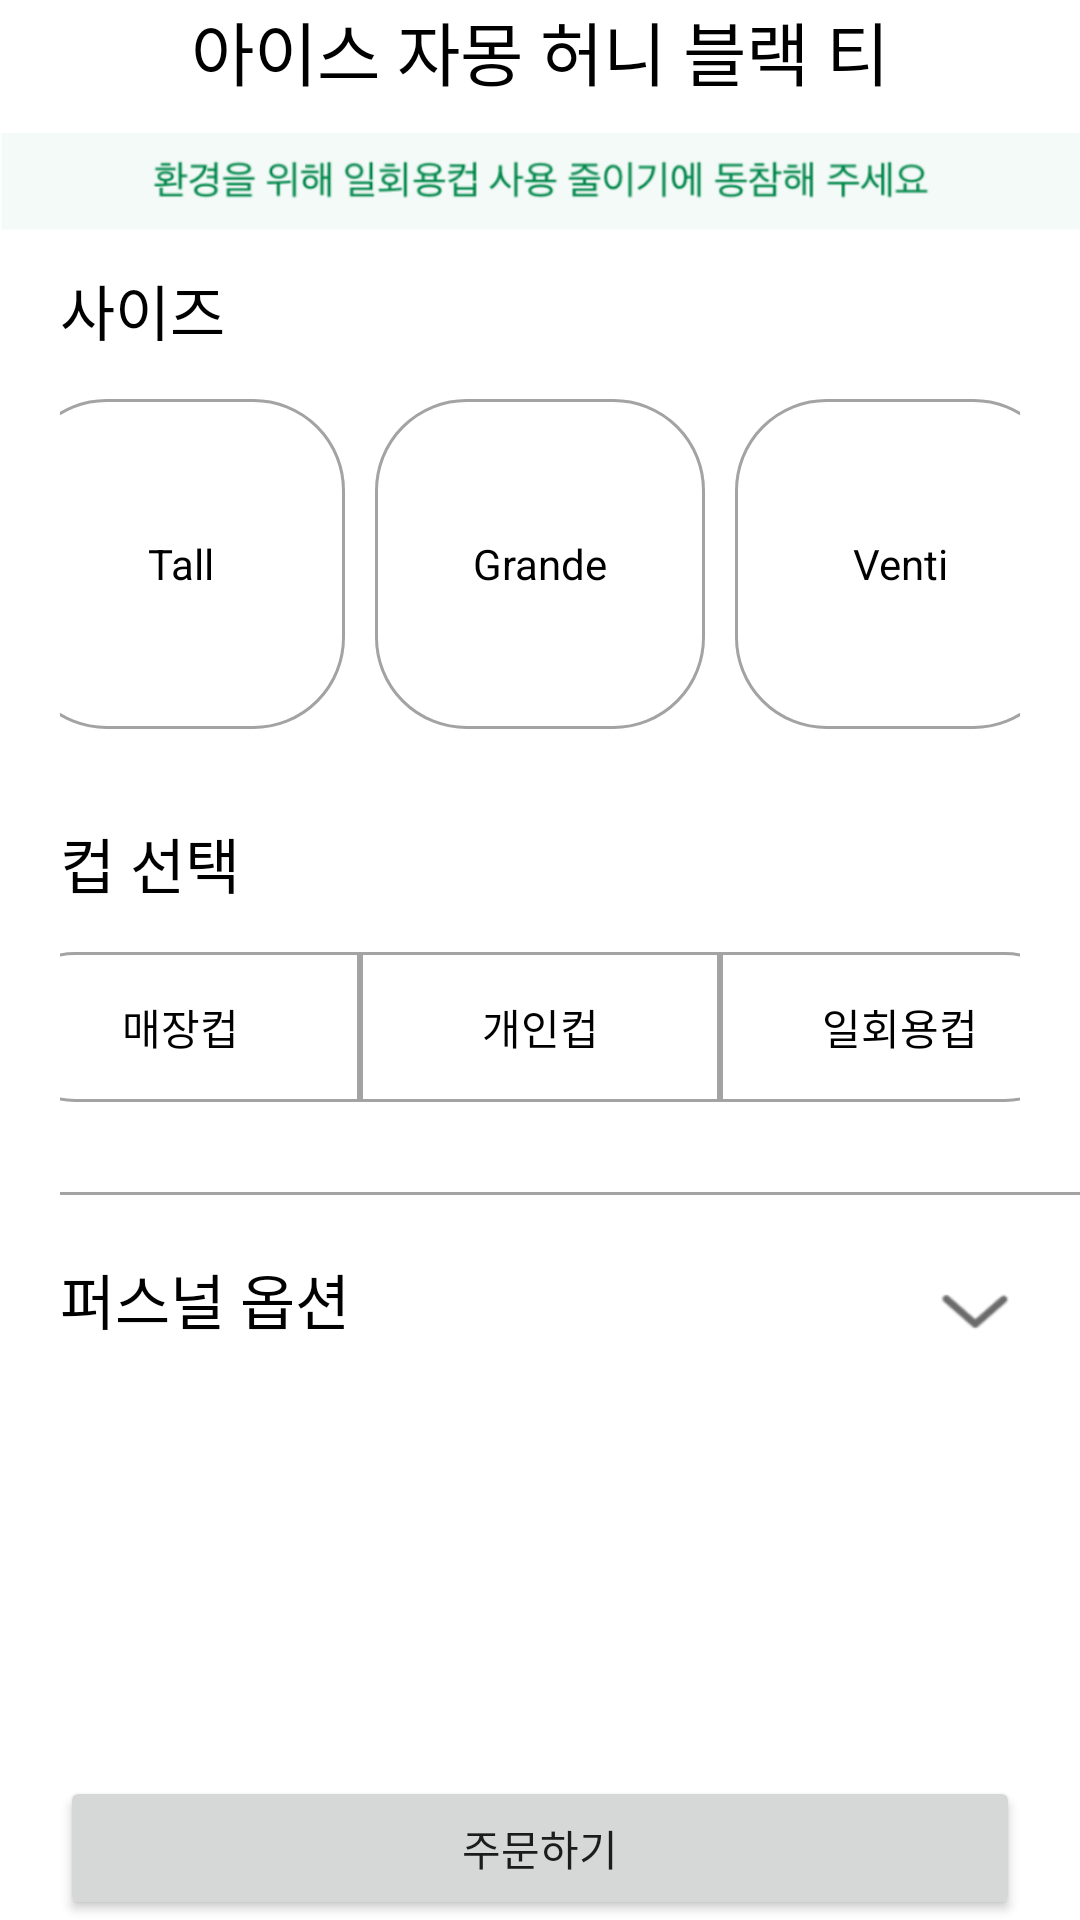

Named icons in this screenshot (1080 × 1920) and their centers, point (x, y):
arrow: point (974, 1311)
